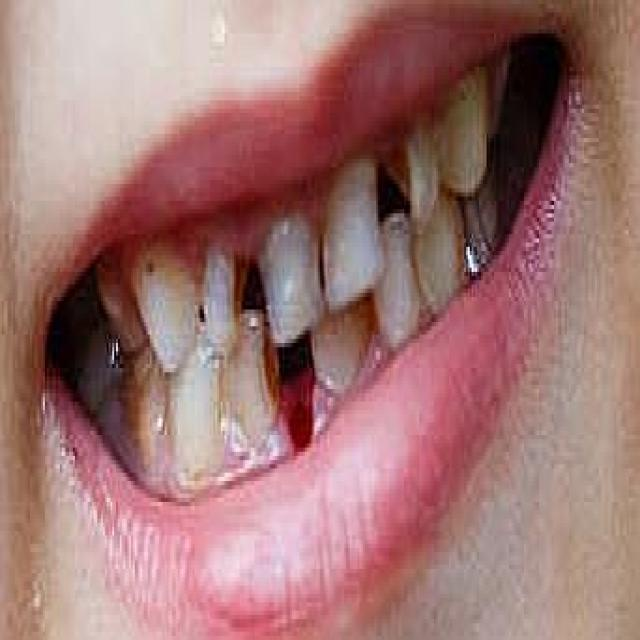caries: (382, 134, 420, 226), (219, 244, 253, 336), (254, 324, 284, 413)
